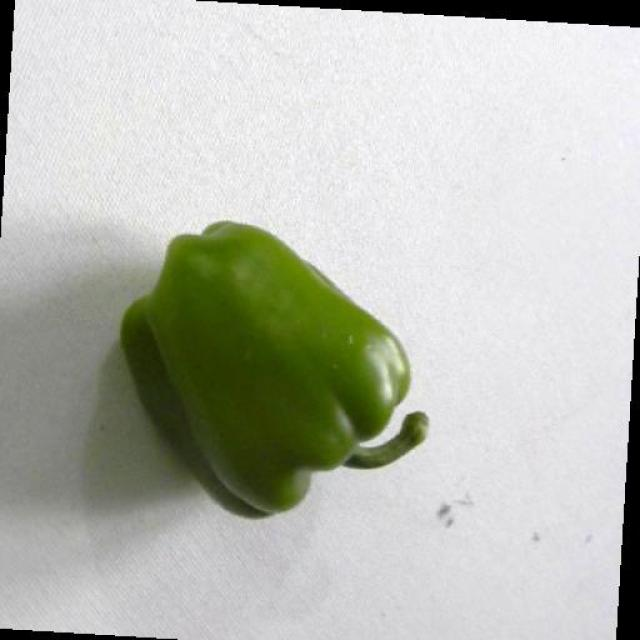Fresh_Capsicum: (81, 212, 443, 550)
